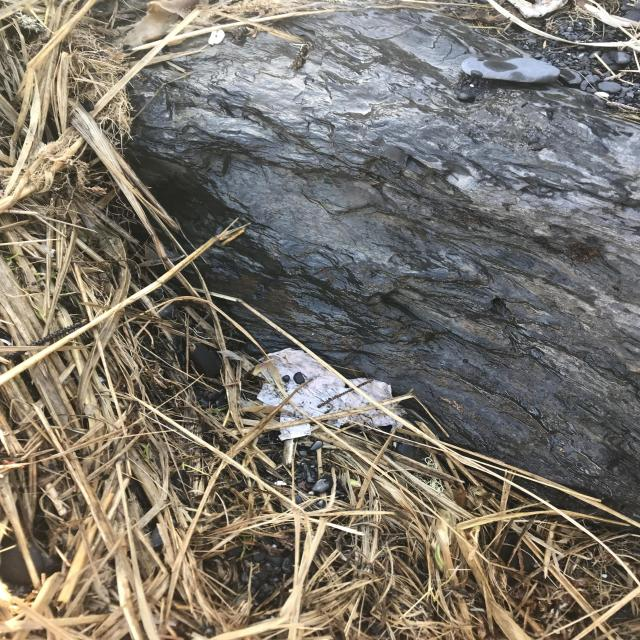litter: (247, 341, 411, 440)
